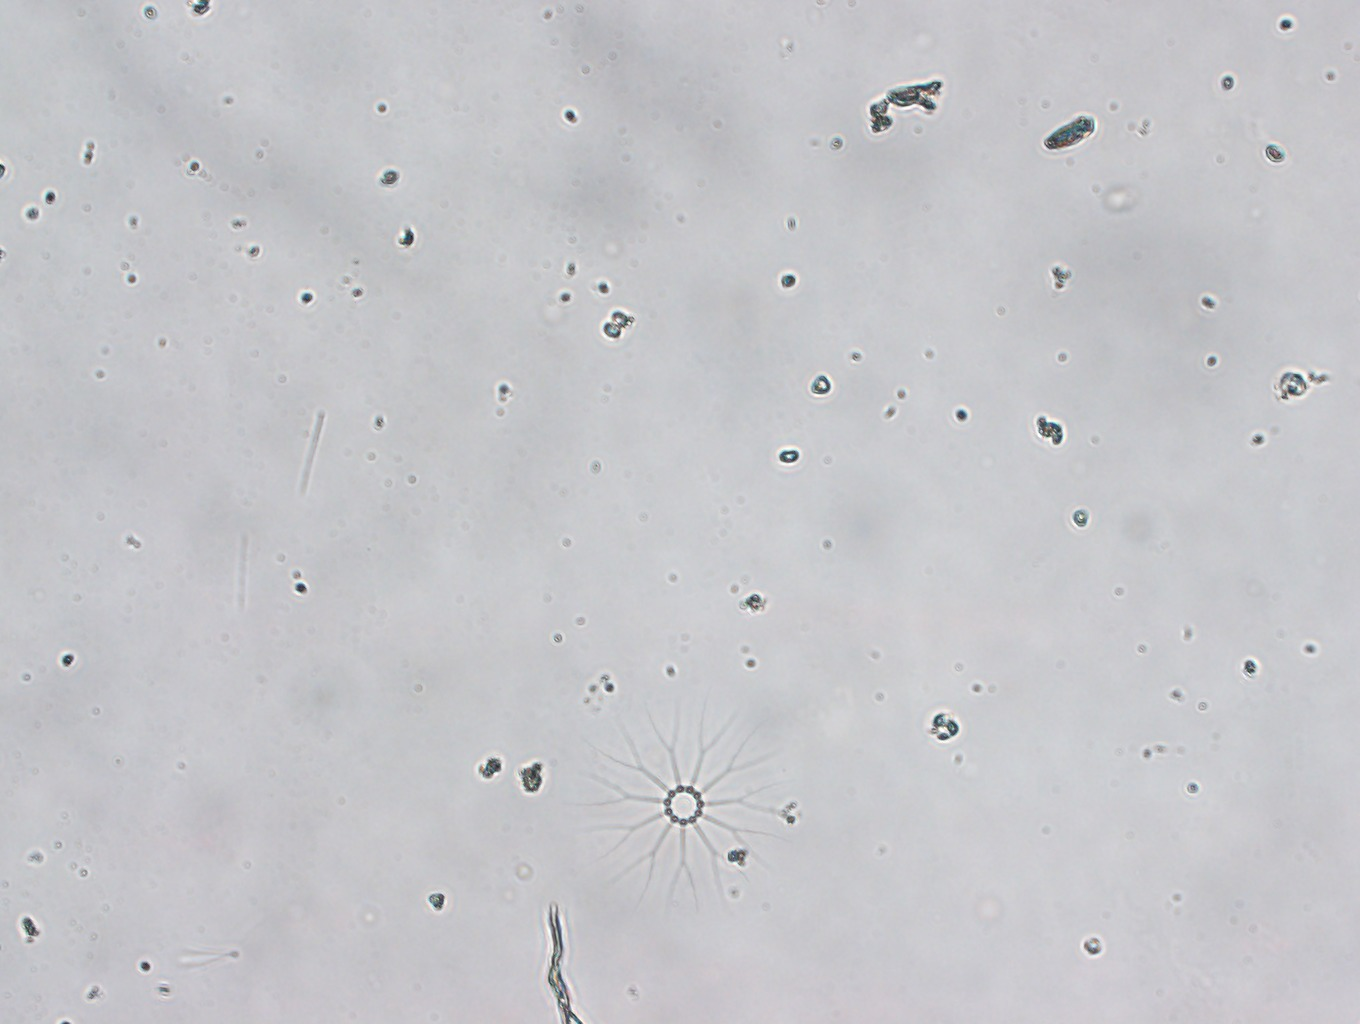bacteriastrum: (575, 703, 789, 907)
